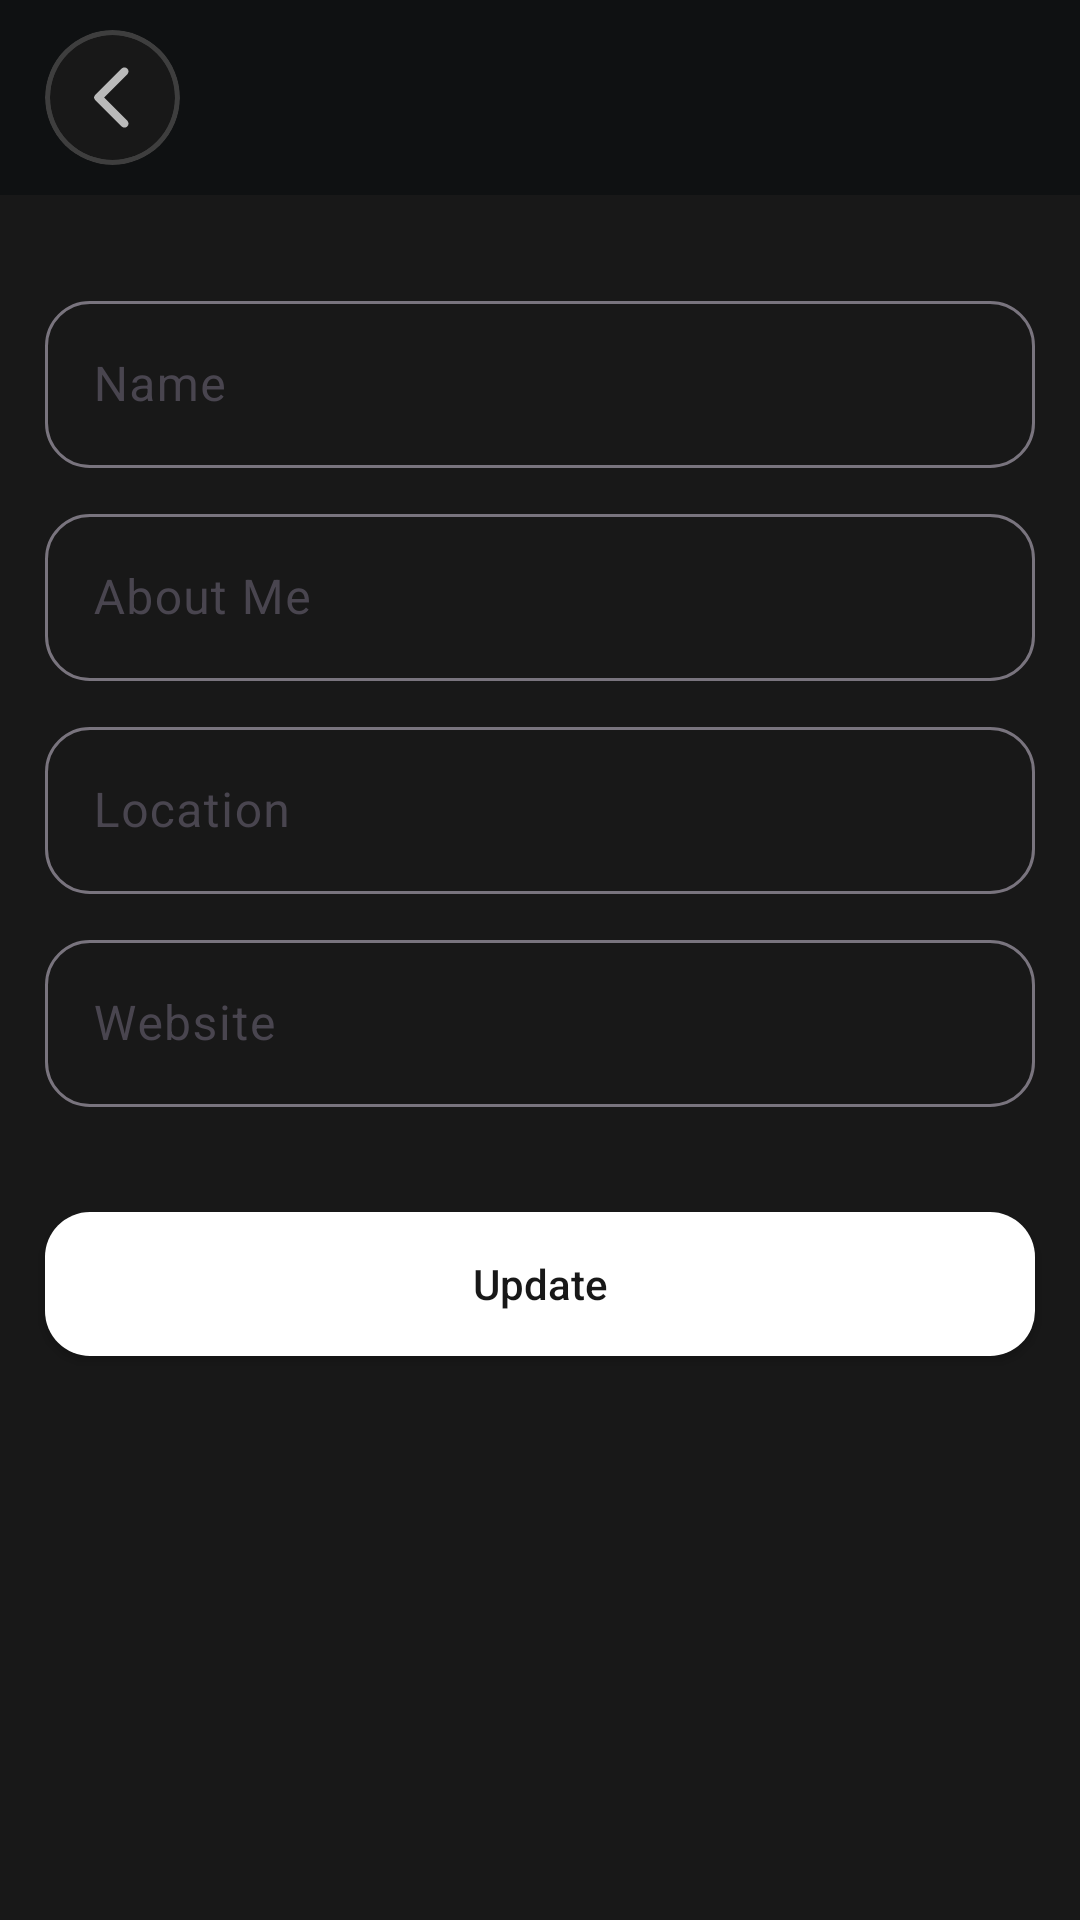

Named icons in this screenshot (1080px x 1920px) and their centers, (x=x, y=y):
back: (x=111, y=97)
